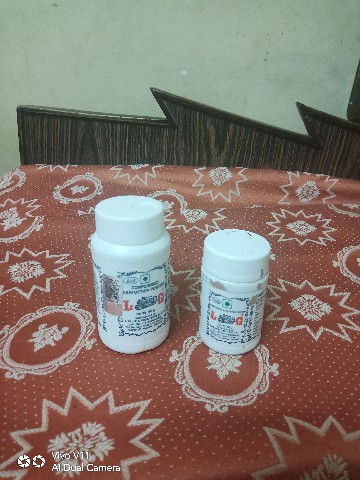lgasafoetidapowder large: (75, 191, 180, 358)
lgasafoetidapowder small: (189, 219, 273, 379)
